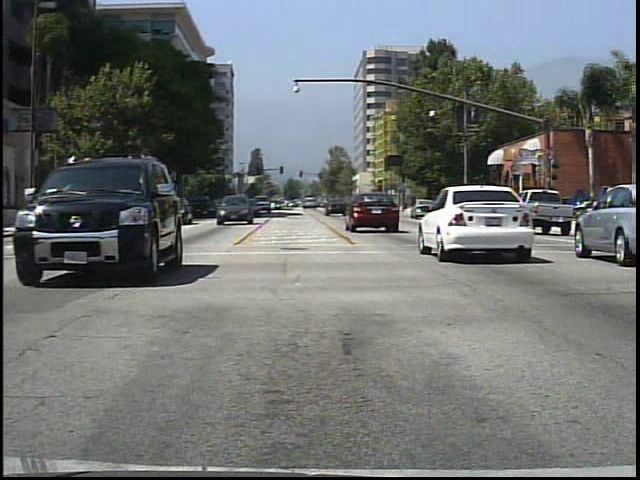person: (541, 192, 560, 228), (498, 188, 516, 224)
